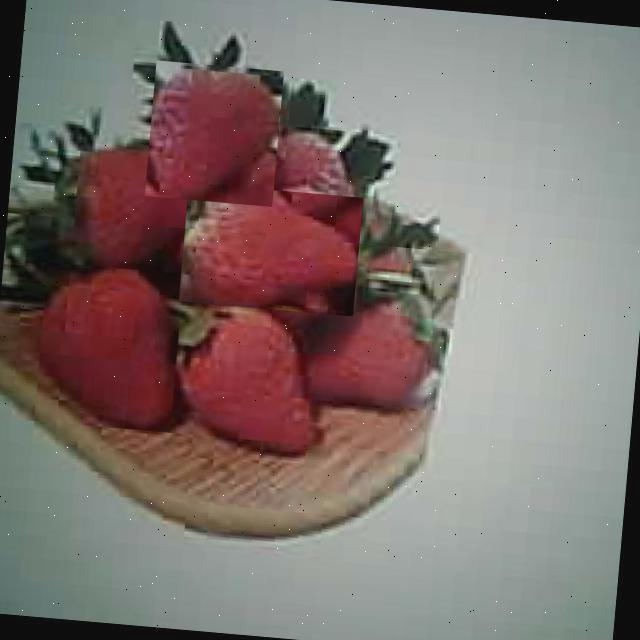ripe: (33, 262, 183, 430), (179, 182, 364, 316), (170, 298, 324, 452), (146, 60, 284, 206)
